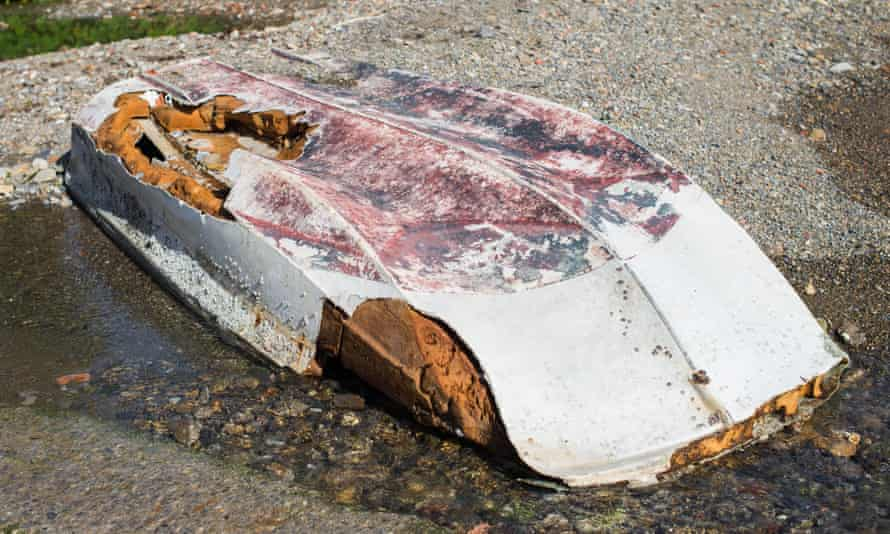rust: (356, 312, 483, 429), (122, 98, 223, 212)
